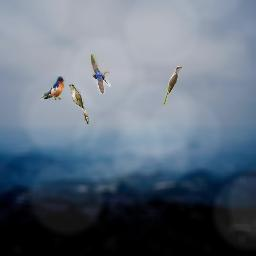Cuckoo: (69, 84, 89, 124), (163, 66, 182, 106)
Swallow: (91, 54, 111, 94), (39, 76, 65, 100)
